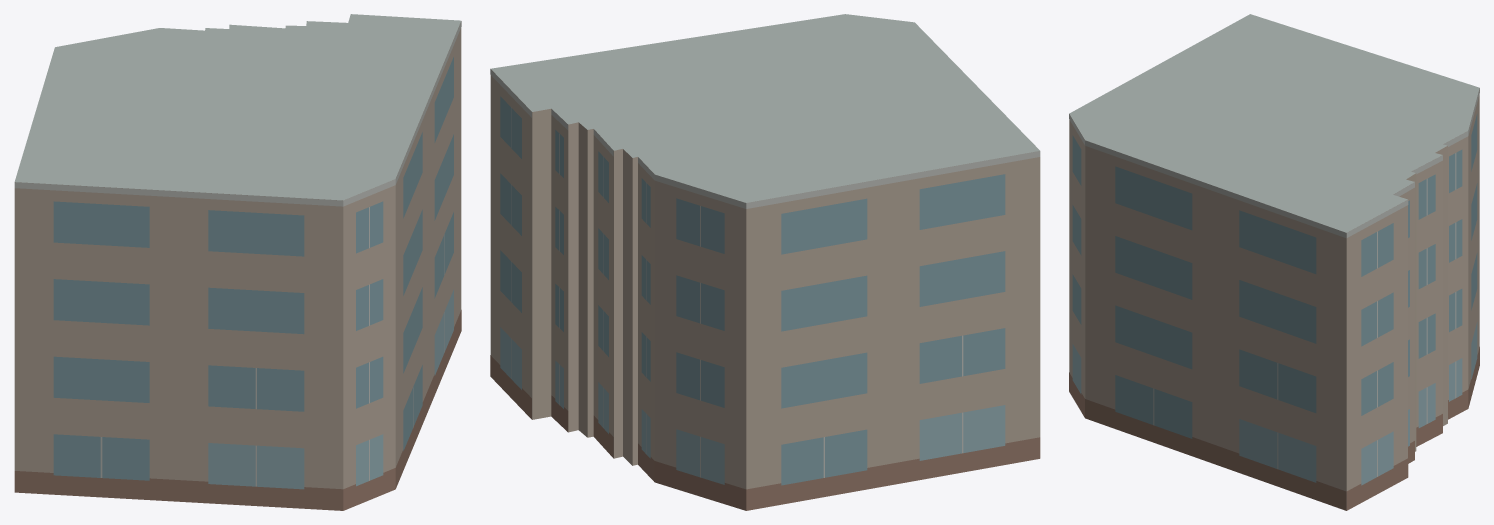
File: survey-upis-32559079.glb
The picture shows the model from 3 angles, left to right: view 1: azimuth 30°, elevation 25°; view 2: azimuth 150°, elevation 25°; view 3: azimuth 270°, elevation 25°; orthographic projection. The views are drawn at different scales.
Parts seen in each view (by area): view 1: survey-upis-32559079.tmp; view 2: survey-upis-32559079.tmp; view 3: survey-upis-32559079.tmp.
Boxes of the visible parts, x1,y1,x2,y2 form: survey-upis-32559079.tmp: [14, 14, 461, 510]; survey-upis-32559079.tmp: [490, 14, 1040, 510]; survey-upis-32559079.tmp: [1069, 14, 1479, 510].
Bounding box in the file's own units: 20.94 × 12.4 × 16.6.
